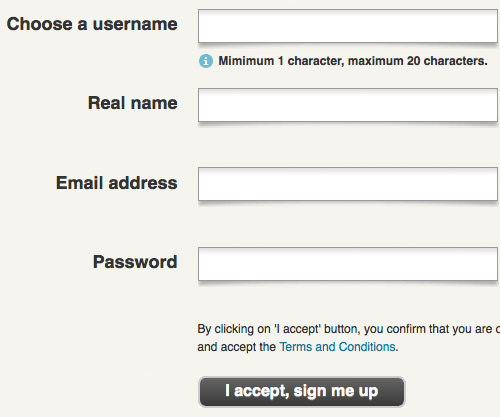_form_: (3, 1, 500, 409)
button: (198, 375, 406, 407)
field: (197, 245, 498, 283), (196, 87, 500, 124), (196, 166, 498, 203), (196, 9, 499, 44)
field_with_label: (8, 6, 500, 45), (56, 164, 500, 206), (94, 242, 500, 286), (89, 85, 500, 126)
